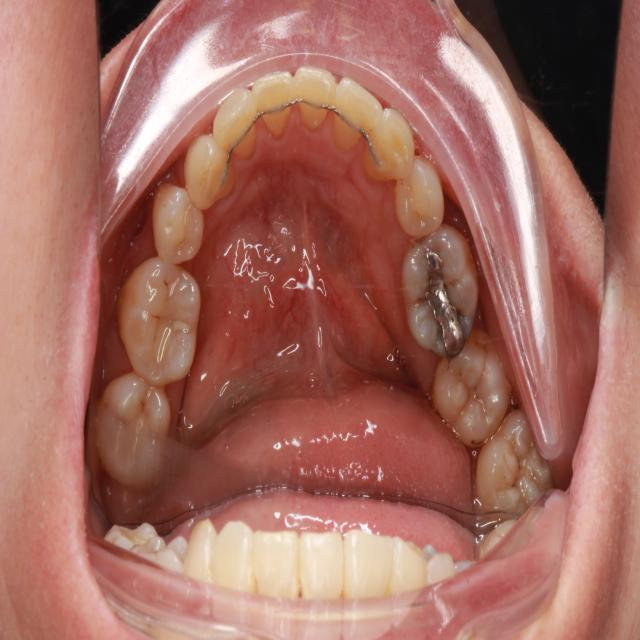tooth: (468, 399, 563, 530), (398, 212, 480, 362), (119, 253, 207, 390), (92, 362, 174, 504), (426, 329, 518, 455), (324, 46, 391, 174), (384, 139, 451, 246), (358, 90, 422, 200), (284, 41, 346, 151), (147, 178, 213, 272), (208, 75, 265, 174), (182, 119, 236, 216), (250, 54, 307, 145)
